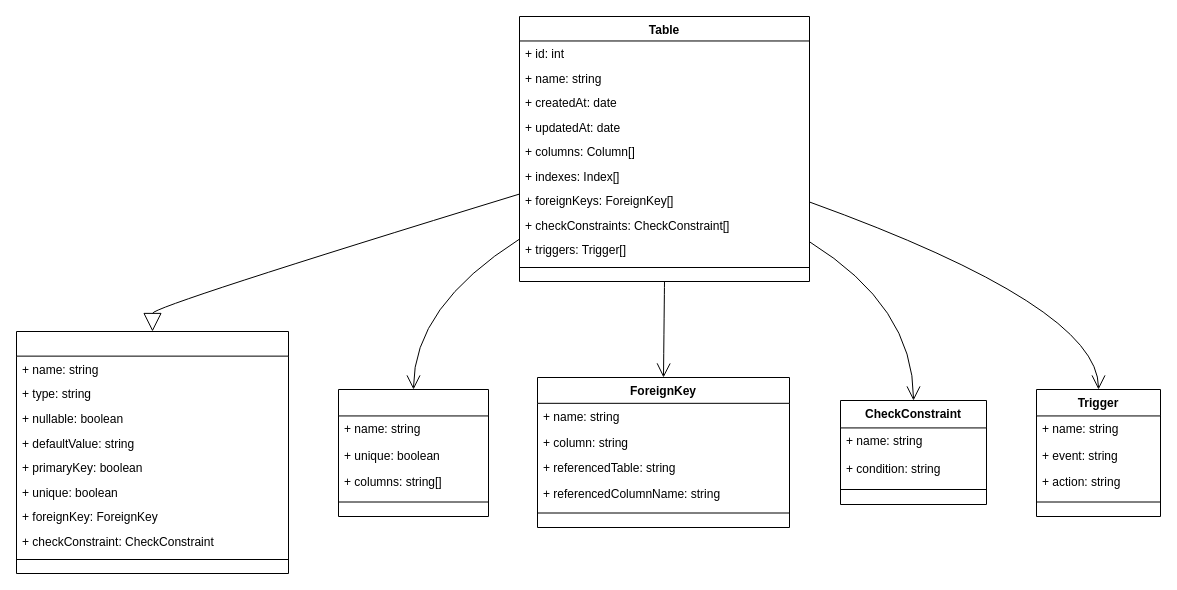
This 1177x590 diagram has some shape labels left out. The shapes that lost their labels are listed below. From the top down, each one's box as (x1, y1, x2, y2) in pixels, then its label:
(16, 330, 288, 574): Column
(338, 388, 488, 516): Index
